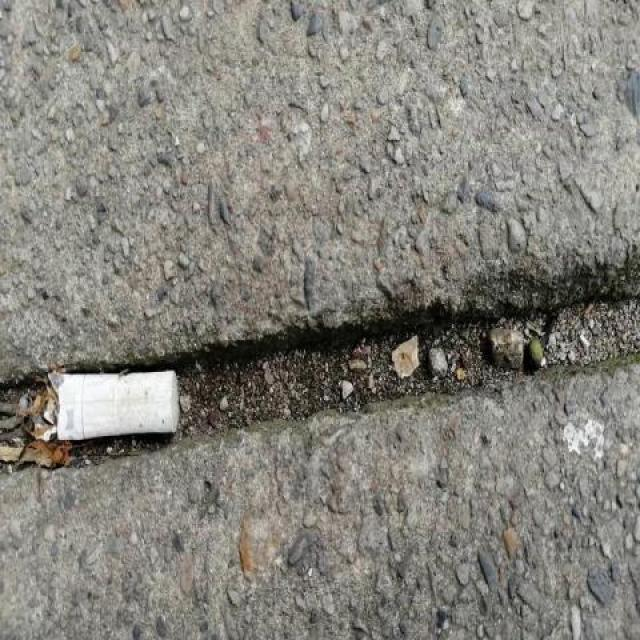non-organic waste: (45, 366, 186, 447)
